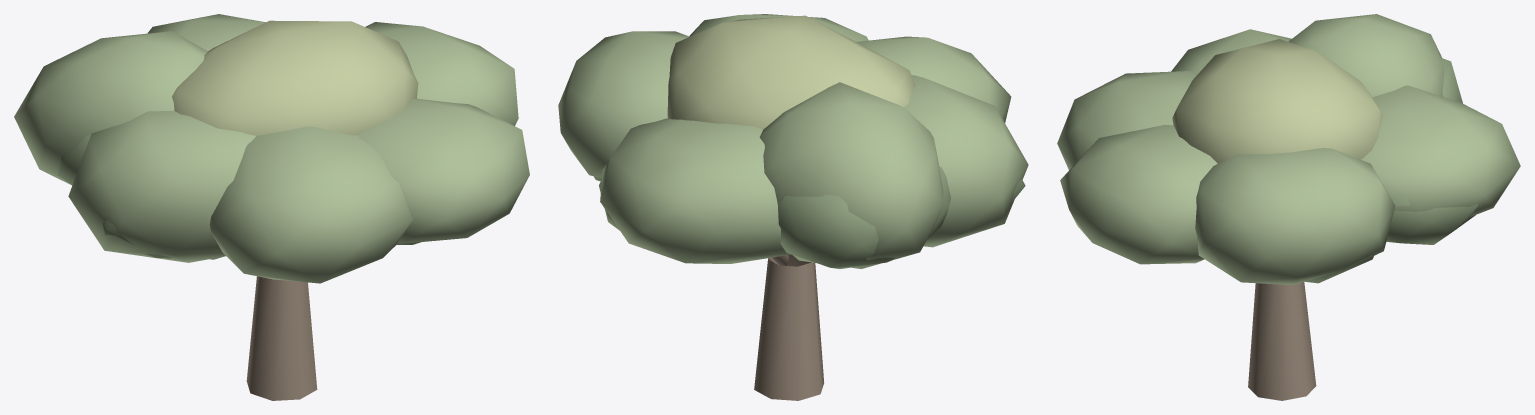
The model's file is tree_ombu_2.glb.
The picture shows the model from 3 angles, left to right: view 1: azimuth 30°, elevation 25°; view 2: azimuth 150°, elevation 25°; view 3: azimuth 270°, elevation 25°; orthographic projection. The views are drawn at different scales.
Visible parts, largest first — view 1: tree_ombu_2.glb; view 2: tree_ombu_2.glb; view 3: tree_ombu_2.glb.
Part boxes in pixels (x1,y1,x2,y2): tree_ombu_2.glb: (14, 14, 529, 400); tree_ombu_2.glb: (558, 14, 1028, 400); tree_ombu_2.glb: (1057, 14, 1520, 400).
Bounding box in the file's own units: 6.65 × 5.15 × 6.52.
